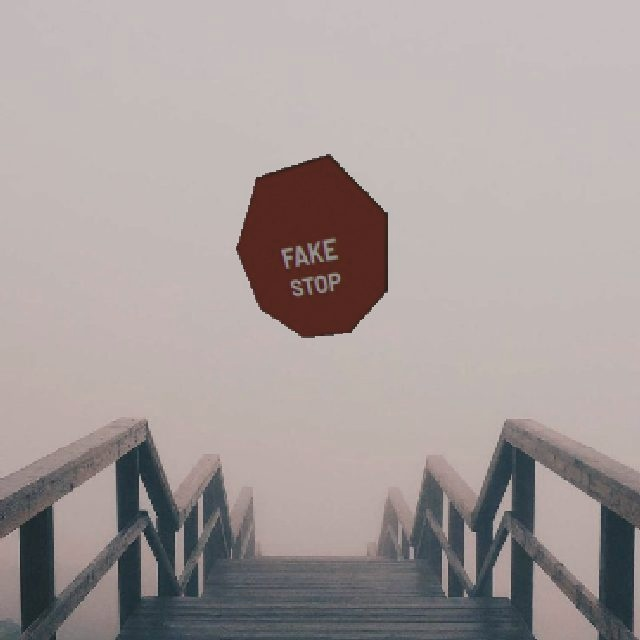FAKE_STOP: (234, 152, 387, 336)
